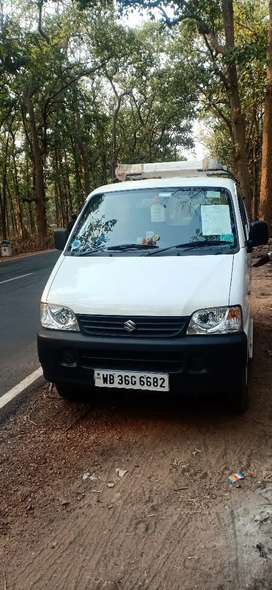WB36G6682: (93, 368, 169, 392)
